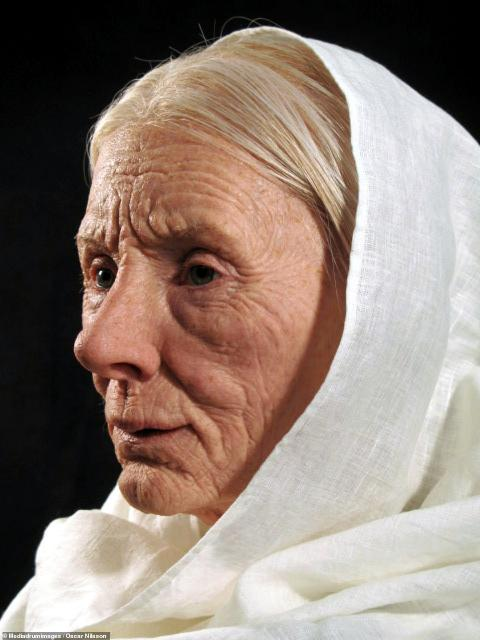chin: (146, 452, 198, 480)
crows_feet: (224, 262, 256, 304)
forehead: (188, 170, 244, 202), (109, 160, 167, 184)
frown_line: (110, 208, 142, 252)
gummy_smile: (165, 352, 195, 393)
masseter: (234, 378, 265, 459)
smoker_lines: (115, 389, 134, 419)
